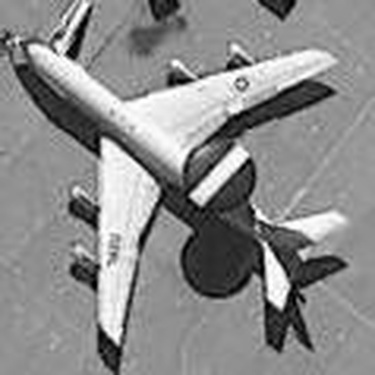airplane: (20, 25, 361, 358)
